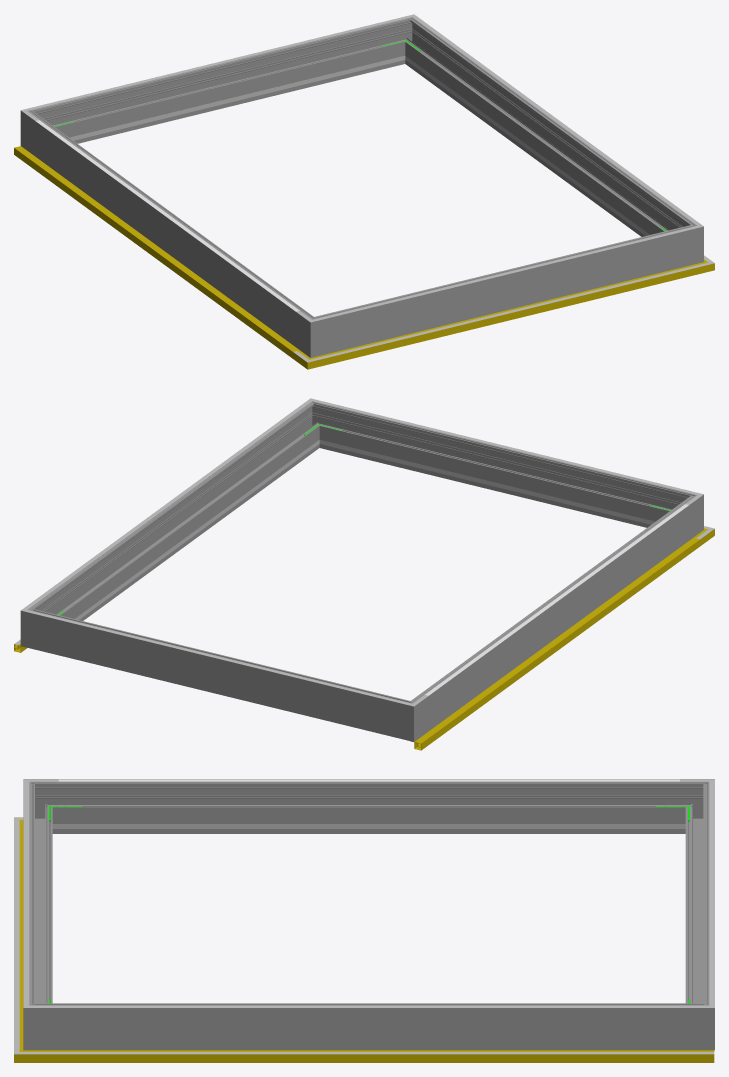
3 views of the same model, one above another, from view 1: azimuth 30°, elevation 25°; view 2: azimuth 150°, elevation 25°; view 3: azimuth 270°, elevation 25° (orthographic). The views are drawn at different scales.
Visible parts, largest first — view 1: 3DGeom-276, 3DGeom-298, 3DGeom-297, 3DGeom-268, 3DGeom-11, 3DGeom-6, 3DGeom-270, 3DGeom-244, 3DGeom-25, 3DGeom-313, 3DGeom-303, 3DGeom-237 (+6 smaller); view 2: 3DGeom-298, 3DGeom-276, 3DGeom-297, 3DGeom-268, 3DGeom-6, 3DGeom-278, 3DGeom-239, 3DGeom-25, 3DGeom-313, 3DGeom-303, 3DGeom-237, 3DGeom-284 (+4 smaller); view 3: 3DGeom-268, 3DGeom-297, 3DGeom-16, 3DGeom-276, 3DGeom-298, 3DGeom-232, 3DGeom-18, 3DGeom-313, 3DGeom-303, 3DGeom-290, 3DGeom-284, 3DGeom-316 (+5 smaller).
Boxes of the visible parts, <box> form: 3DGeom-276: <box>48,22,400,143</box>; 3DGeom-298: <box>331,229,678,351</box>; 3DGeom-297: <box>407,26,685,236</box>; 3DGeom-268: <box>35,119,303,346</box>; 3DGeom-11: <box>329,266,689,363</box>; 3DGeom-6: <box>14,146,299,358</box>; 3DGeom-270: <box>296,310,335,357</box>; 3DGeom-244: <box>78,61,380,139</box>; 3DGeom-25: <box>14,147,296,351</box>; 3DGeom-313: <box>36,120,299,311</box>; 3DGeom-303: <box>425,25,688,216</box>; 3DGeom-237: <box>419,66,649,235</box>; 3DGeom-298: <box>323,406,676,527</box>; 3DGeom-276: <box>46,613,393,735</box>; 3DGeom-297: <box>39,410,316,620</box>; 3DGeom-268: <box>421,503,689,730</box>; 3DGeom-6: <box>411,538,700,750</box>; 3DGeom-278: <box>388,694,428,741</box>; 3DGeom-239: <box>344,445,645,523</box>; 3DGeom-25: <box>417,538,699,743</box>; 3DGeom-313: <box>425,504,688,695</box>; 3DGeom-303: <box>35,409,299,600</box>; 3DGeom-237: <box>75,450,305,619</box>; 3DGeom-284: <box>20,601,50,652</box>; 3DGeom-268: <box>58,779,679,833</box>; 3DGeom-297: <box>58,1003,679,1050</box>; 3DGeom-16: <box>49,1050,714,1062</box>; 3DGeom-276: <box>685,794,709,1003</box>; 3DGeom-298: <box>23,794,52,1003</box>; 3DGeom-232: <box>86,824,651,828</box>; 3DGeom-18: <box>49,1052,714,1054</box>; 3DGeom-313: <box>58,779,679,781</box>; 3DGeom-303: <box>58,1005,679,1007</box>; 3DGeom-290: <box>23,993,58,1050</box>; 3DGeom-284: <box>680,993,714,1050</box>; 3DGeom-316: <box>23,794,29,993</box>.
Bounding box in the file's own units: 2.44 × 0.2434 × 3.05.
